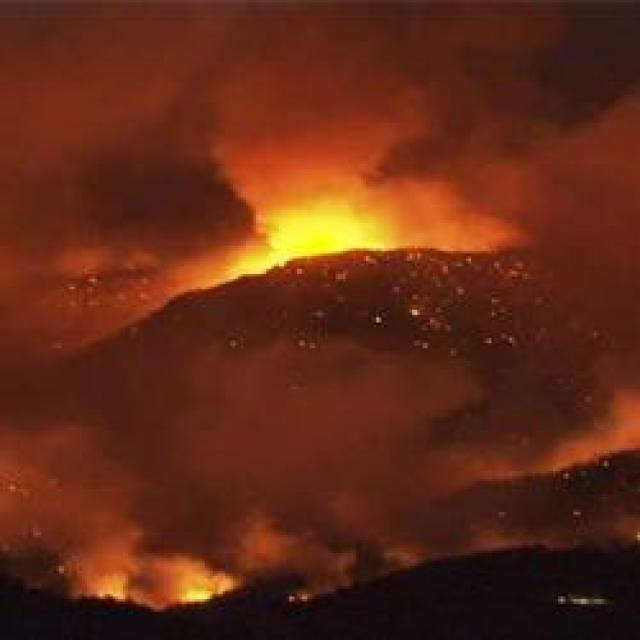fire: (54, 544, 259, 612), (238, 195, 372, 278)
